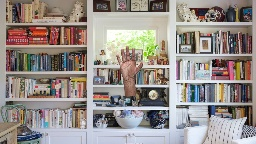Mano_aperta: (113, 45, 144, 80)
